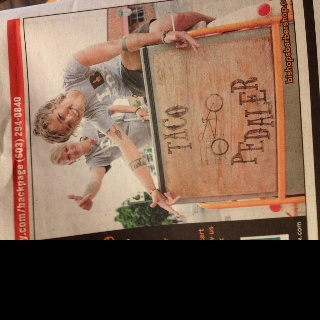without_mask: (45, 98, 85, 133), (58, 142, 86, 162)
